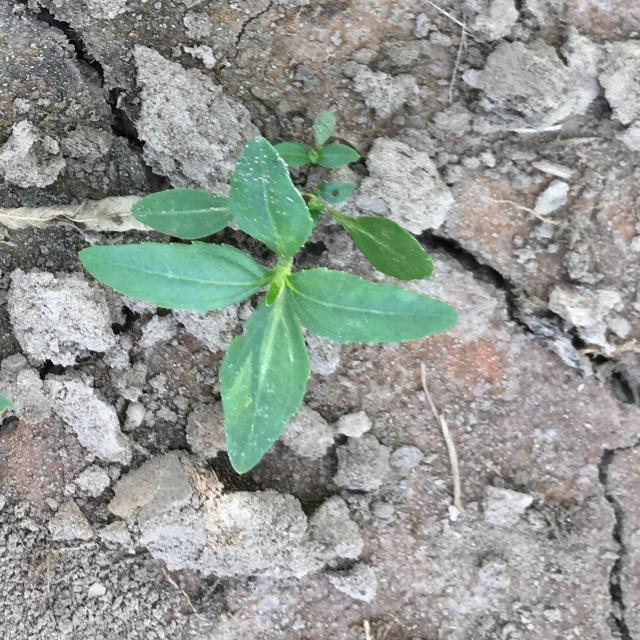Eclipta: (78, 135, 460, 475), (272, 110, 361, 168)
